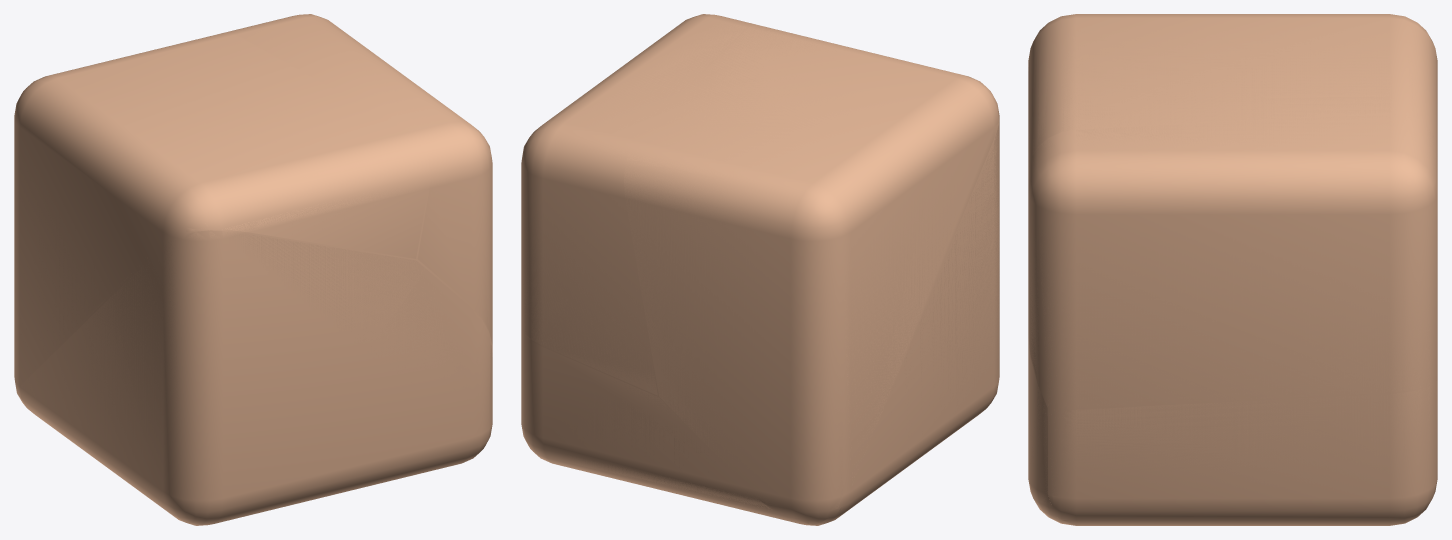
File: rounded-cube-small.fbx
3 views of the same model, side by side, from view 1: azimuth 30°, elevation 25°; view 2: azimuth 150°, elevation 25°; view 3: azimuth 270°, elevation 25° (orthographic). The views are drawn at different scales.
Parts seen in each view (by area): view 1: Cube, Cube_cell.002, Cube_cell, Cube_cell.004; view 2: Cube, Cube_cell, Cube_cell.004, Cube_cell.001, Cube_cell.002; view 3: Cube, Cube_cell.004, Cube_cell.001, Cube_cell, Cube_cell.002.
Part boxes in pixels (<box>): Cube: <box>14,14,492,525</box>; Cube_cell.002: <box>18,230,492,518</box>; Cube_cell: <box>15,33,428,354</box>; Cube_cell.004: <box>222,15,492,331</box>; Cube: <box>521,14,999,525</box>; Cube_cell: <box>624,24,998,524</box>; Cube_cell.004: <box>521,14,750,395</box>; Cube_cell.001: <box>523,334,771,510</box>; Cube_cell.002: <box>802,118,999,525</box>; Cube: <box>1028,14,1437,525</box>; Cube_cell.004: <box>1028,113,1437,407</box>; Cube_cell.001: <box>1050,379,1437,525</box>; Cube_cell: <box>1028,18,1437,169</box>; Cube_cell.002: <box>1028,54,1067,524</box>.
Size of the model in its own units: 49.61 by 49.61 by 49.61.
